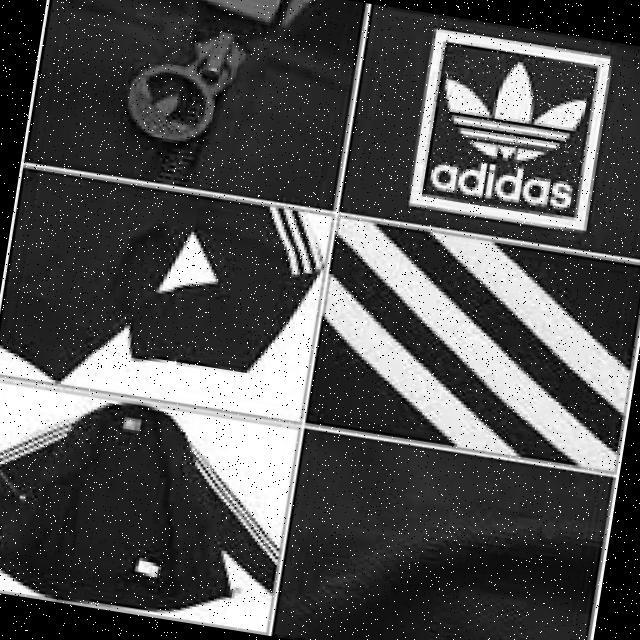Adidas: (421, 38, 605, 179)
